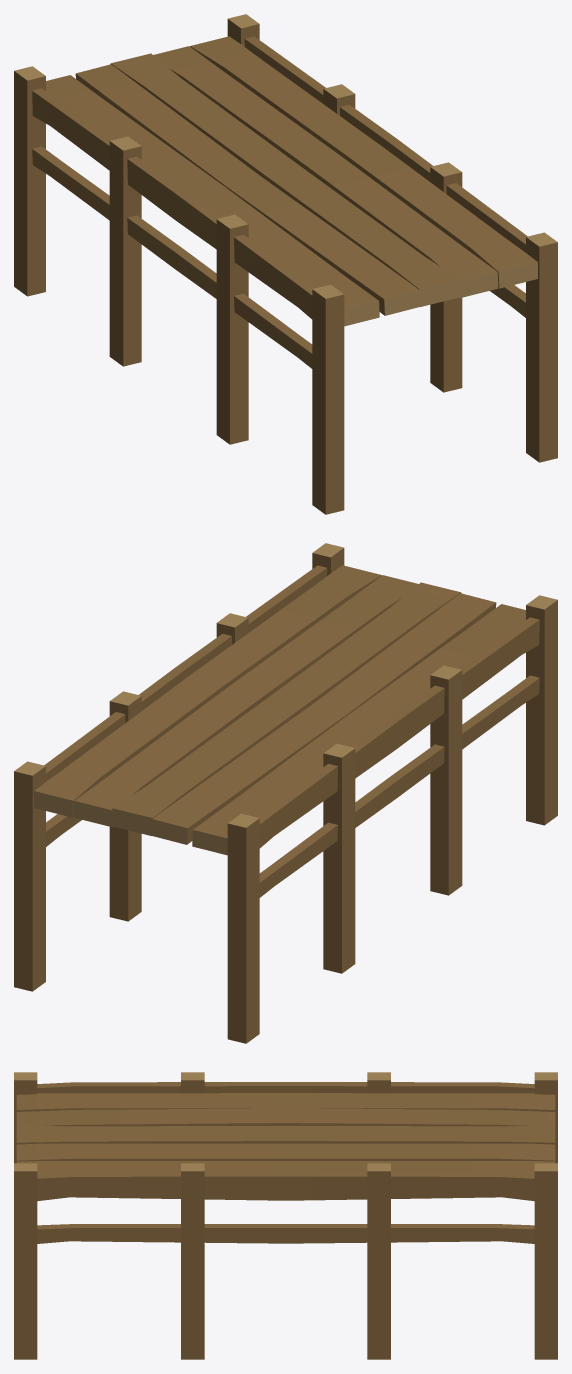
The model's file is Dock-XViKoBh2UN.glb.
The picture shows the model from 3 angles, top to bottom: view 1: azimuth 30°, elevation 25°; view 2: azimuth 150°, elevation 25°; view 3: azimuth 270°, elevation 25°; orthographic projection. The views are drawn at different scales.
Parts seen in each view (by area): view 1: Dock-XViKoBh2UN; view 2: Dock-XViKoBh2UN; view 3: Dock-XViKoBh2UN.
Boxes of the visible parts, x1=… form: Dock-XViKoBh2UN: x1=14, y1=14, x2=557, y2=514; Dock-XViKoBh2UN: x1=14, y1=543, x2=557, y2=1043; Dock-XViKoBh2UN: x1=14, y1=1072, x2=557, y2=1359.
Size of the model in its own units: 0.5243 by 0.4658 by 1.22.
